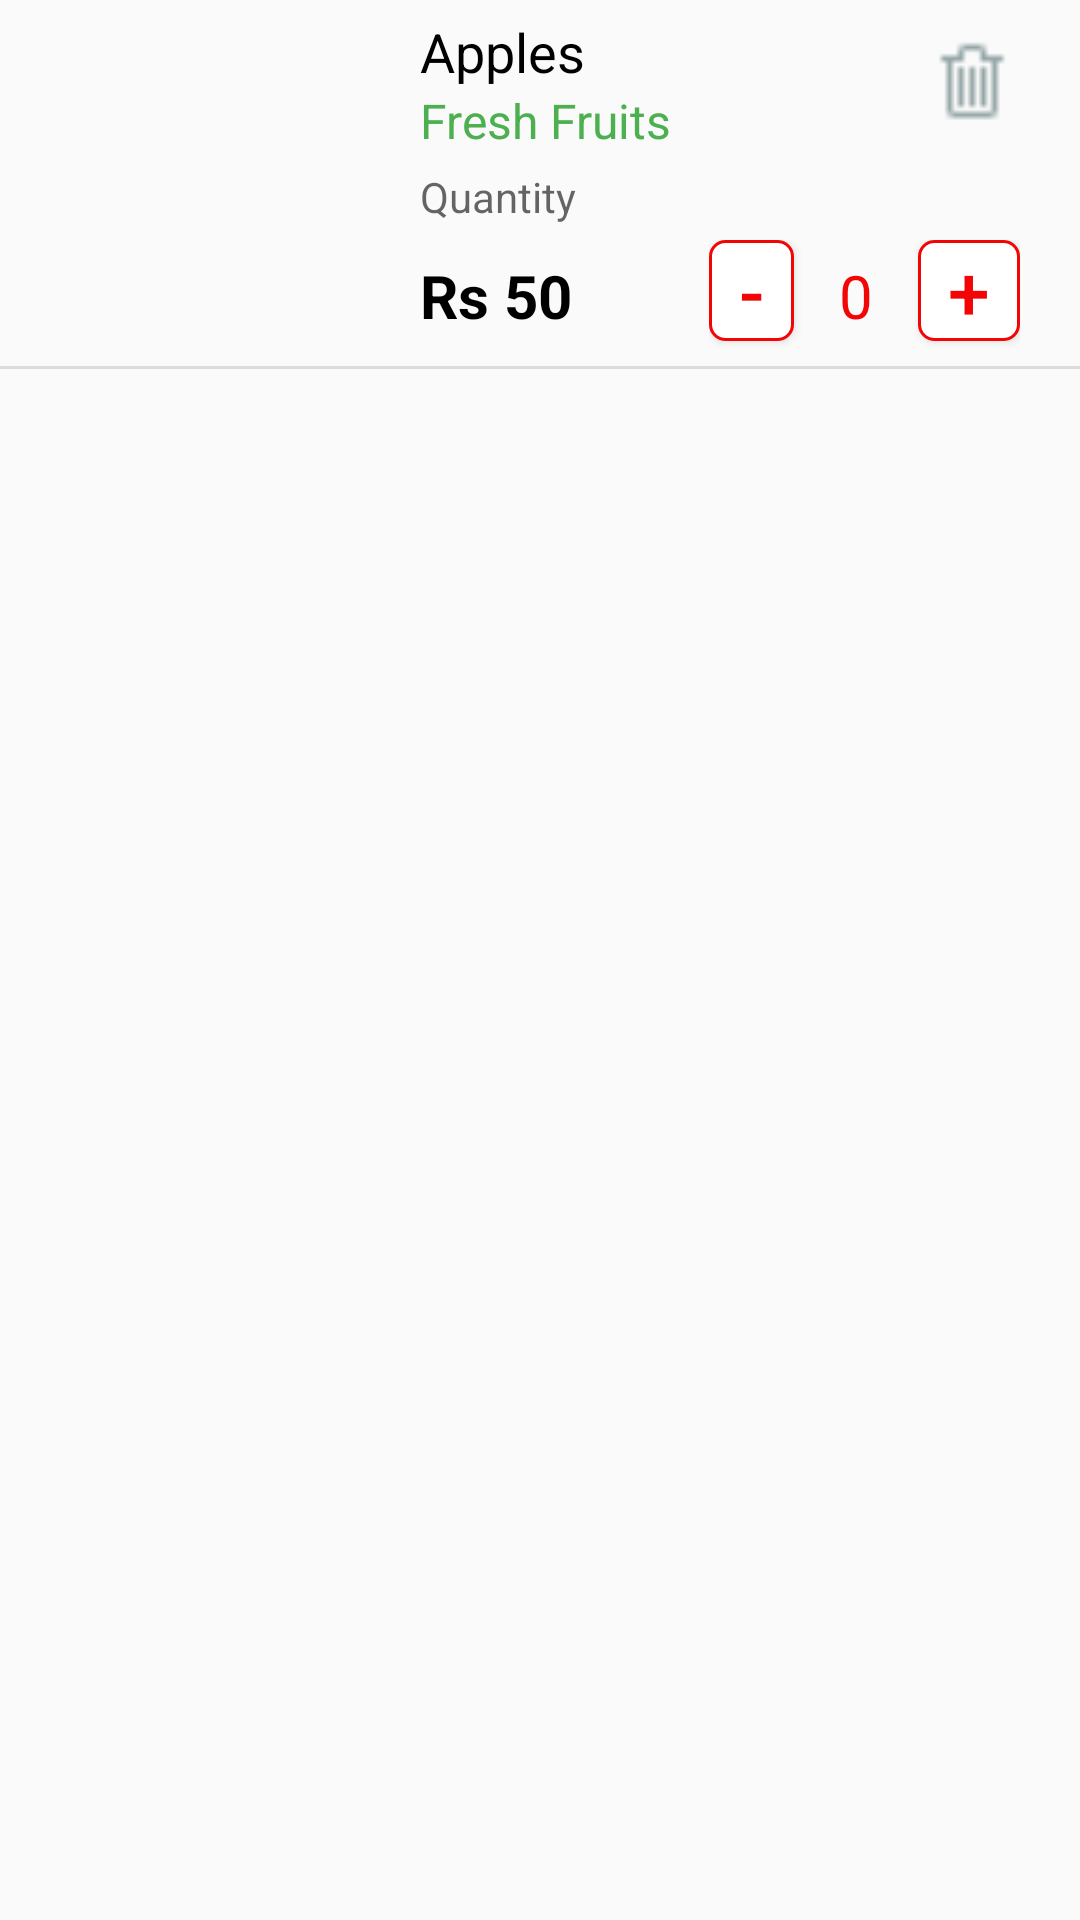

Icons on this 1080px x 1920px Android screen, each with its box as (x1, y1, x2, y2):
deleteicon: (940, 43, 1005, 119)
